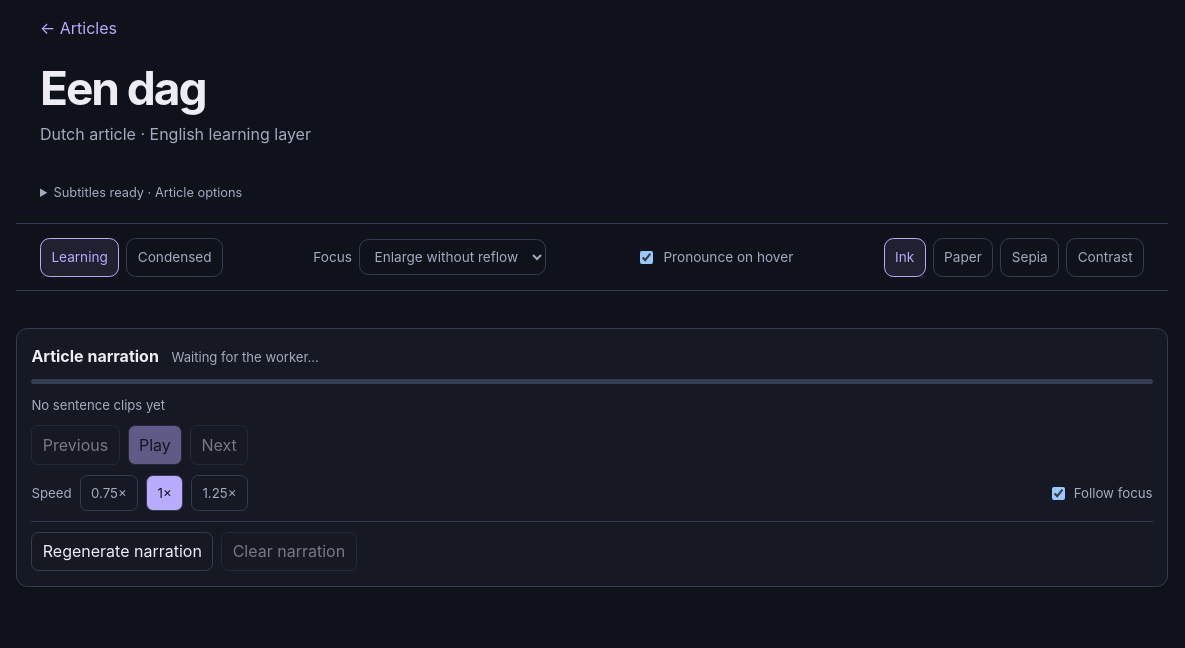
Test: defaults to learning without an action row and remembers condensed
What coordinates should you click on to do the following:
click the button "Condensed"
I would click on:
 (175, 257)
Its box is x1=126 y1=238 x2=223 y2=277.
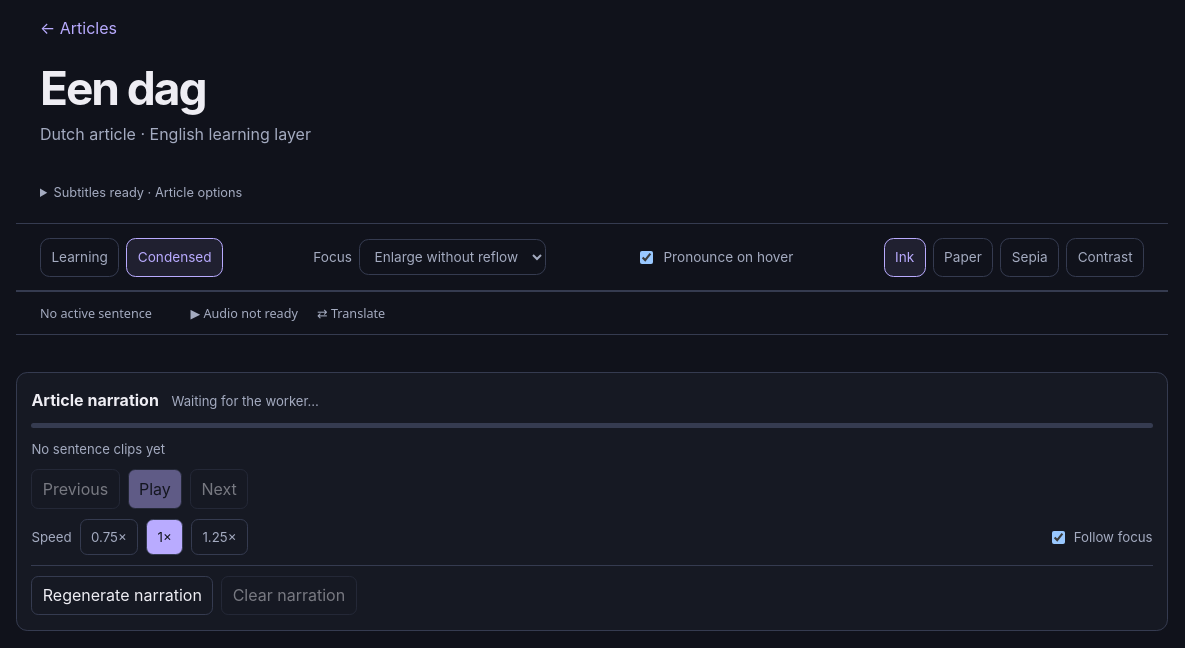
Now the element showing "No active sentence ▶ Audio not ready ⇄ Translate" is shown, box x1=16 y1=291 x2=1168 y2=335
